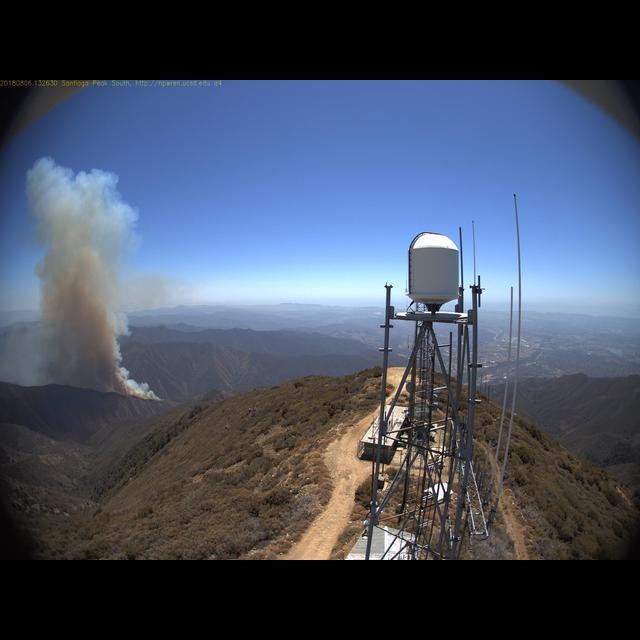Smoke: (1, 152, 165, 405)
